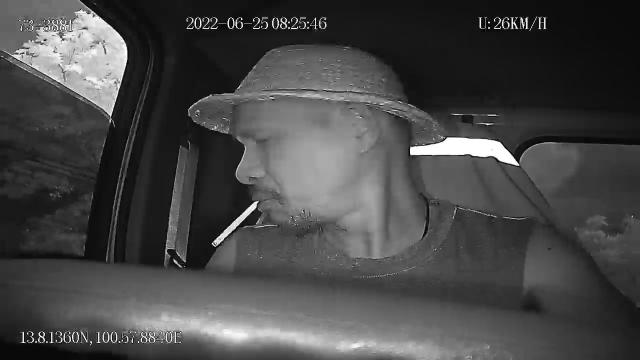Cigarette: (209, 202, 261, 248)
